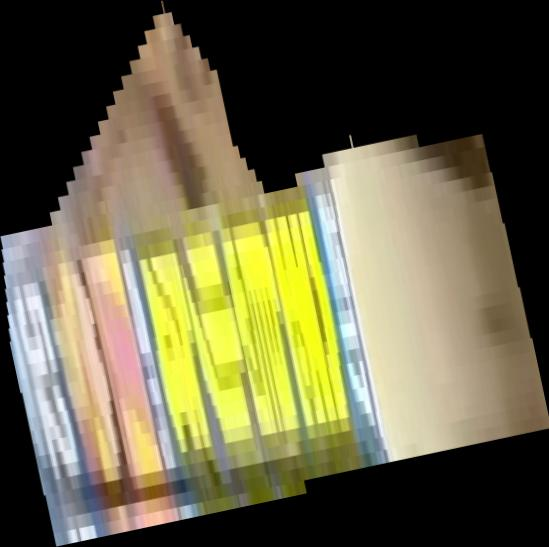flat: (1, 1, 549, 547)
